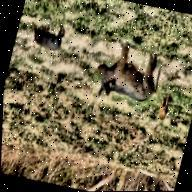boar: (89, 41, 166, 109), (30, 22, 67, 53)
